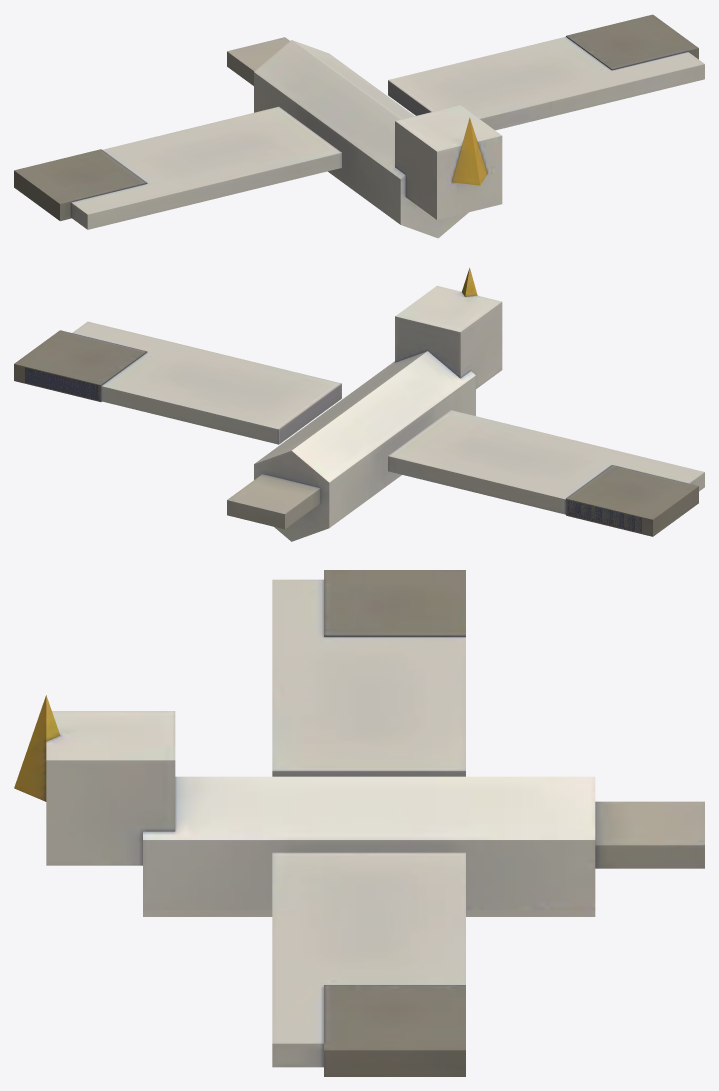
File: life-gull.glb
3 views of the same model, one above another, from view 1: azimuth 30°, elevation 25°; view 2: azimuth 150°, elevation 25°; view 3: azimuth 270°, elevation 25° (orthographic). The views are drawn at different scales.
Parts seen in each view (by area): view 1: life-gull; view 2: life-gull; view 3: life-gull.
Boxes of the visible parts, <box> form: life-gull: <box>14,14,704,238</box>; life-gull: <box>14,267,704,541</box>; life-gull: <box>14,570,704,1076</box>.
Size of the model in its own units: 0.176 by 0.038 by 0.107.
Materials: 1 (1 with a texture image).
